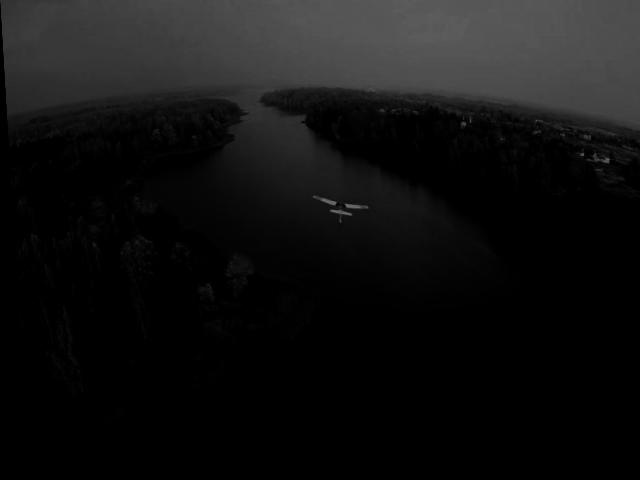hedef: (308, 190, 369, 227)
